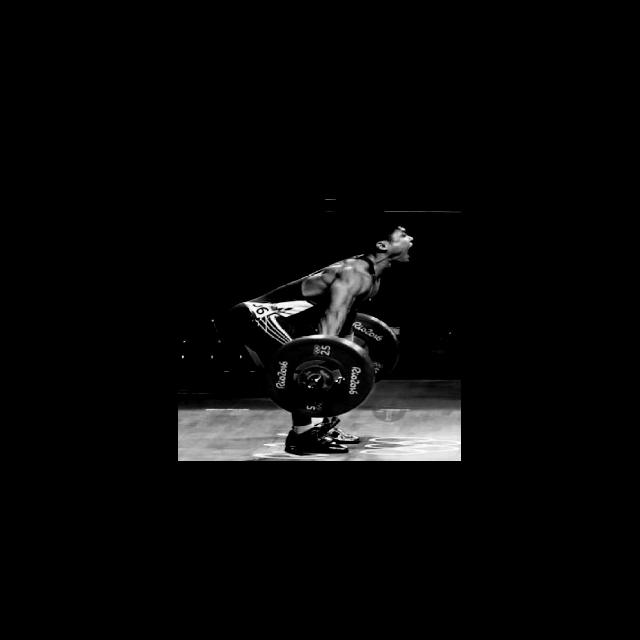barbell: (258, 330, 380, 419)
